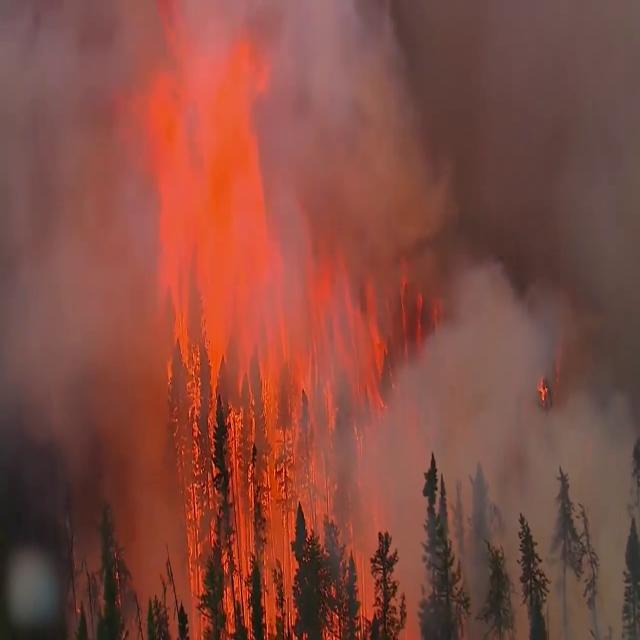Fire: (146, 15, 358, 631)
Smoke: (317, 1, 640, 616), (0, 0, 184, 501)
